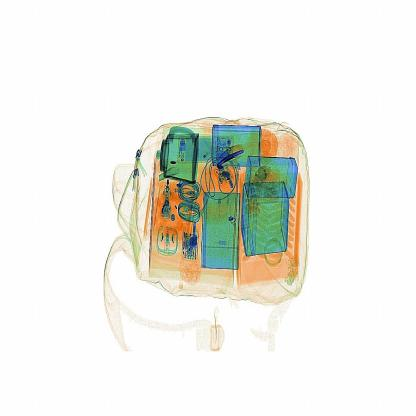pliers: (207, 133, 248, 177)
